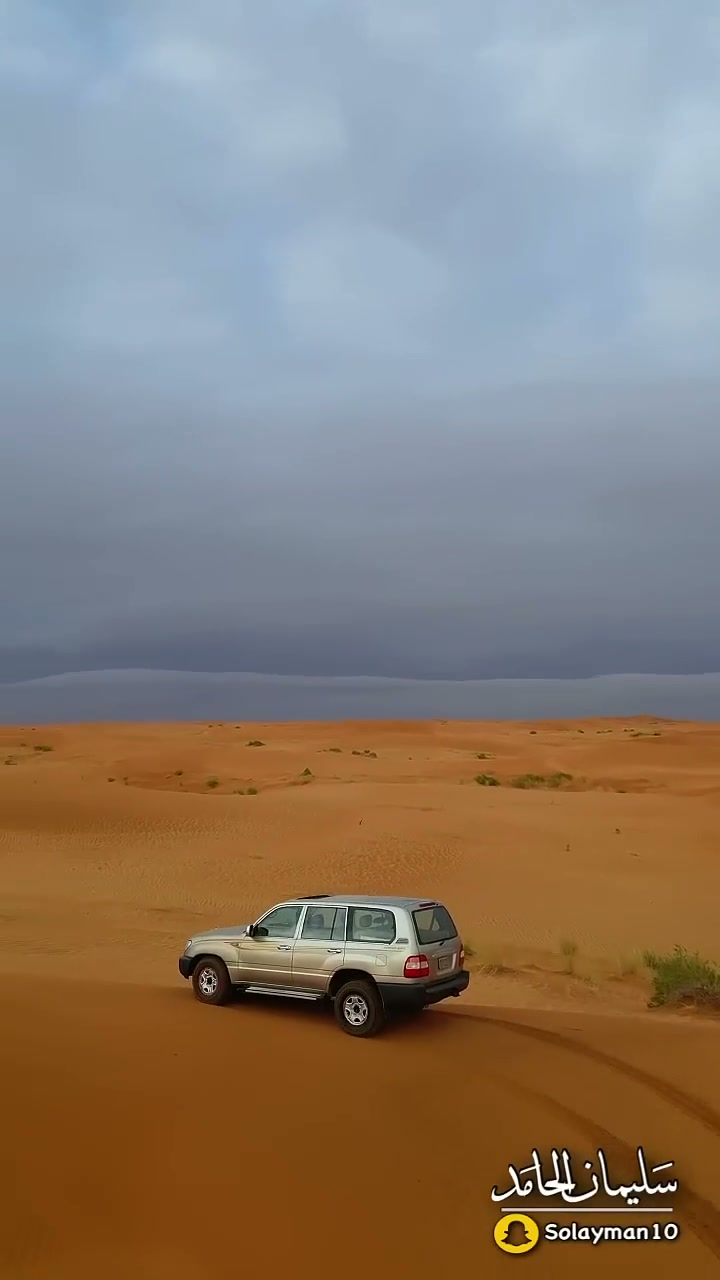vehicle_track: (448, 1011, 719, 1136), (513, 1080, 634, 1166)
